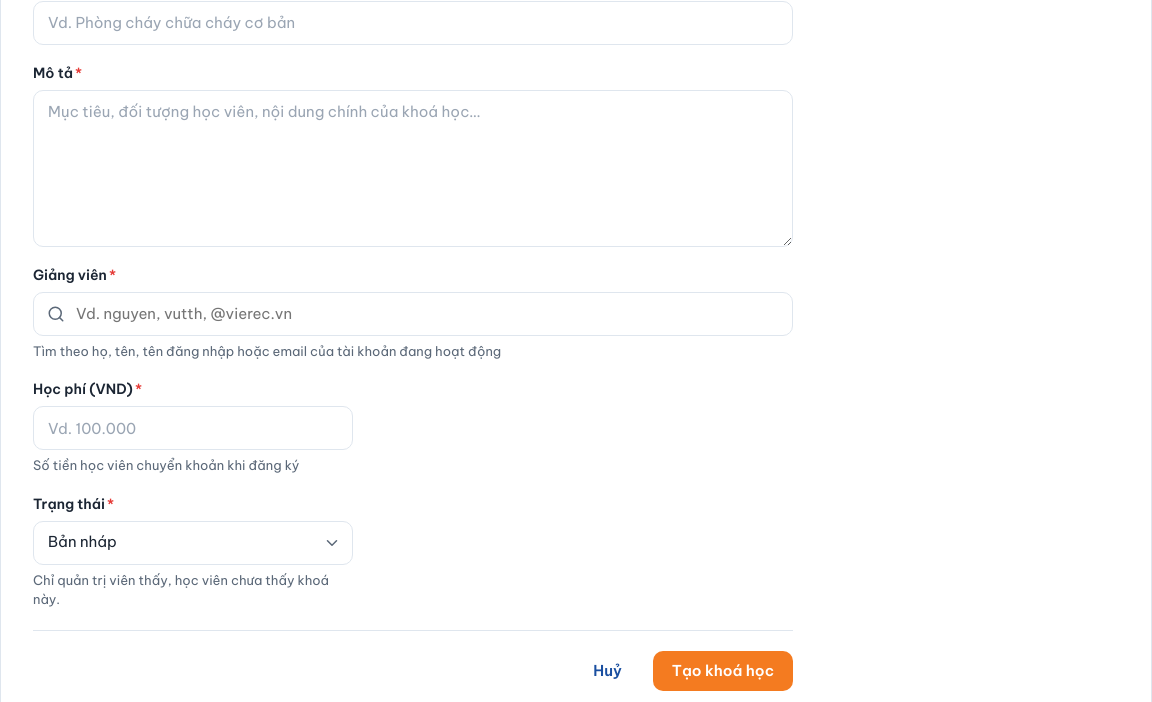
Test: CourseCreatePage › validates every required field on an empty submit
(page scrolled)
Click the button "Tạo khoá học".
click(723, 670)  # box [653, 650, 793, 690]
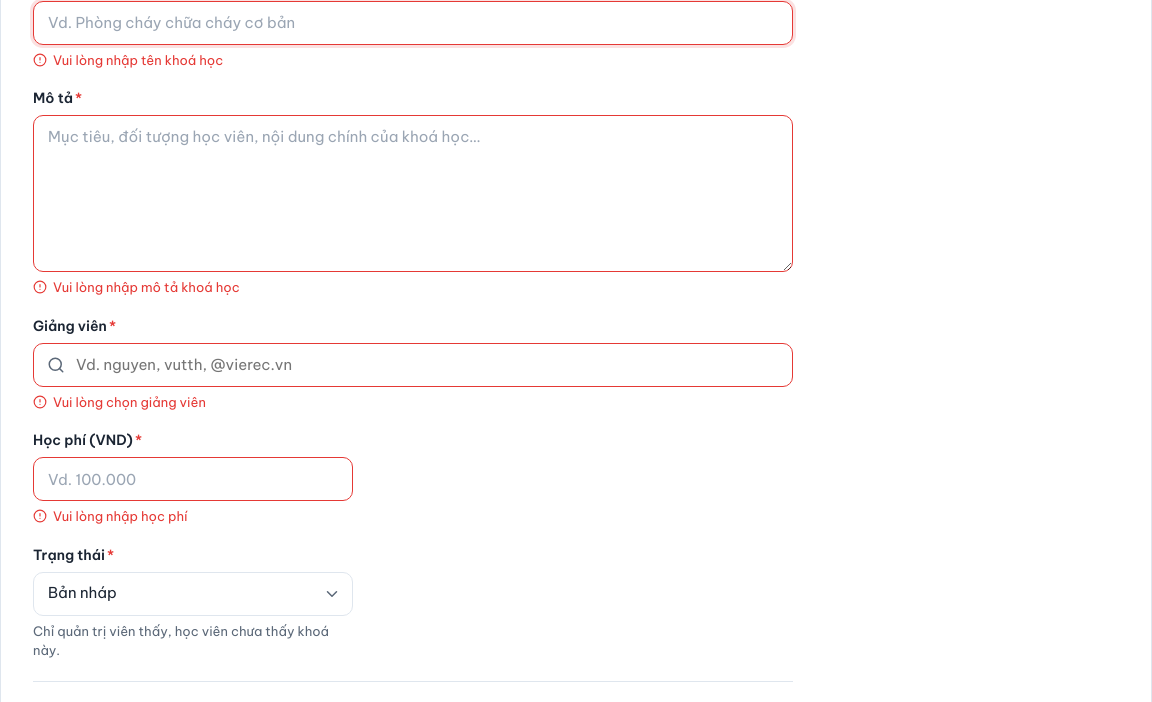
Expected: the text "Vui lòng nhập tên khoá học" is shown, [33, 52, 223, 68]
Expected: the text "Vui lòng nhập mô tả khoá học" is shown, [33, 279, 240, 295]
Expected: the text "Vui lòng chọn giảng viên" is shown, [33, 394, 206, 410]
